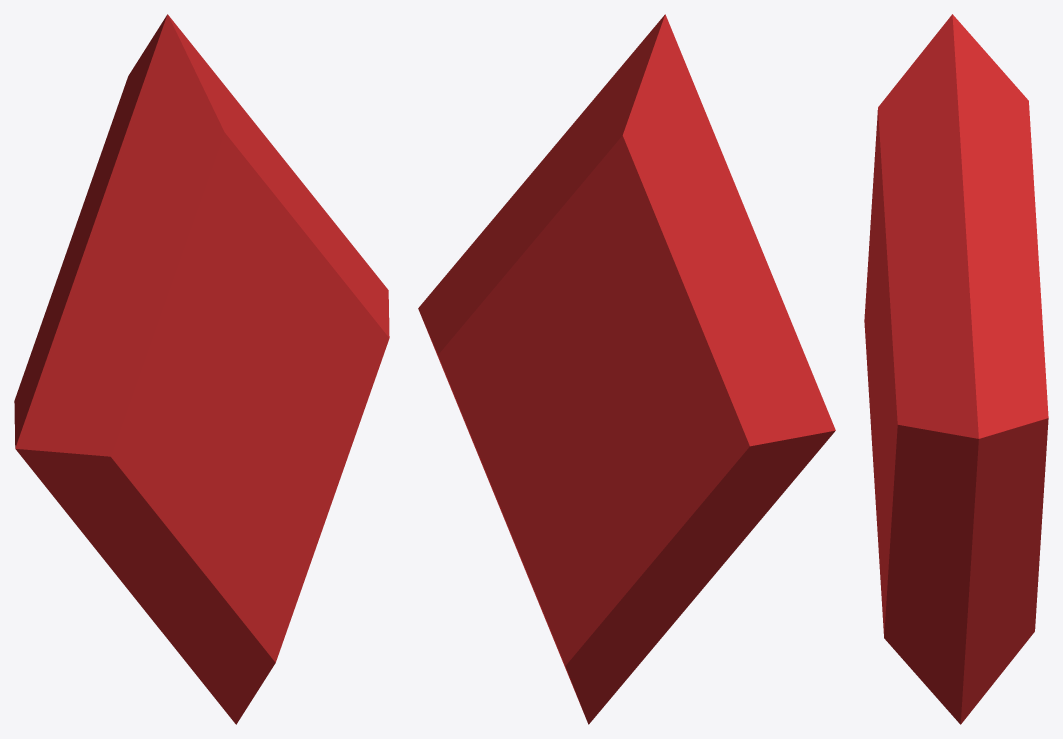
Rendered from ruby.glb.
The picture shows the model from 3 angles, left to right: view 1: azimuth 30°, elevation 25°; view 2: azimuth 150°, elevation 25°; view 3: azimuth 270°, elevation 25°; orthographic projection. The views are drawn at different scales.
Visible parts, largest first — view 1: Cube.183; view 2: Cube.183; view 3: Cube.183.
Boxes of the visible parts, x1=… form: Cube.183: x1=14, y1=14, x2=389, y2=724; Cube.183: x1=418, y1=14, x2=835, y2=724; Cube.183: x1=864, y1=14, x2=1048, y2=724.
Bounding box in the file's own units: 1.34 × 2.36 × 0.5801.
